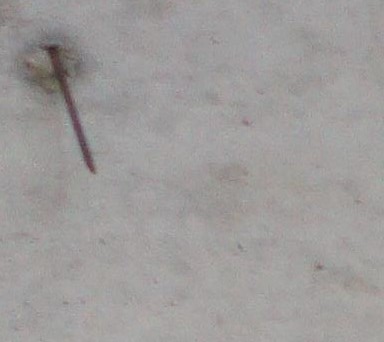Exposed reinforcement: (43, 44, 97, 176)
Spalling: (23, 46, 80, 90)
